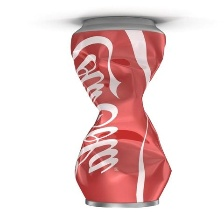can: (67, 14, 175, 210)
